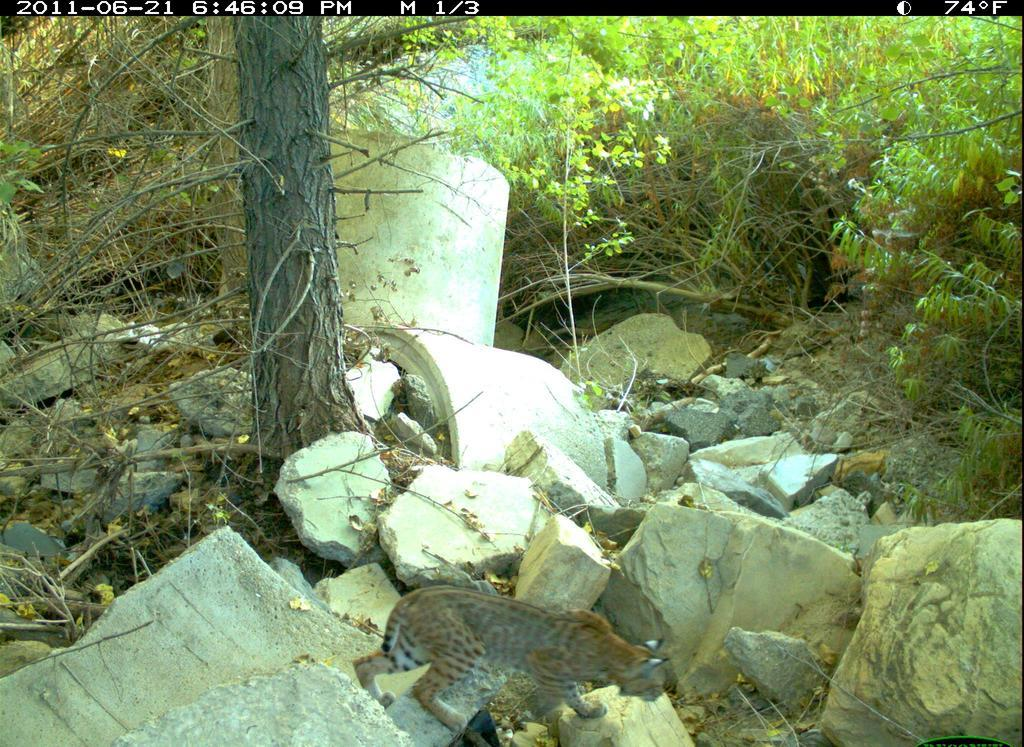bobcat: (353, 582, 676, 737)
